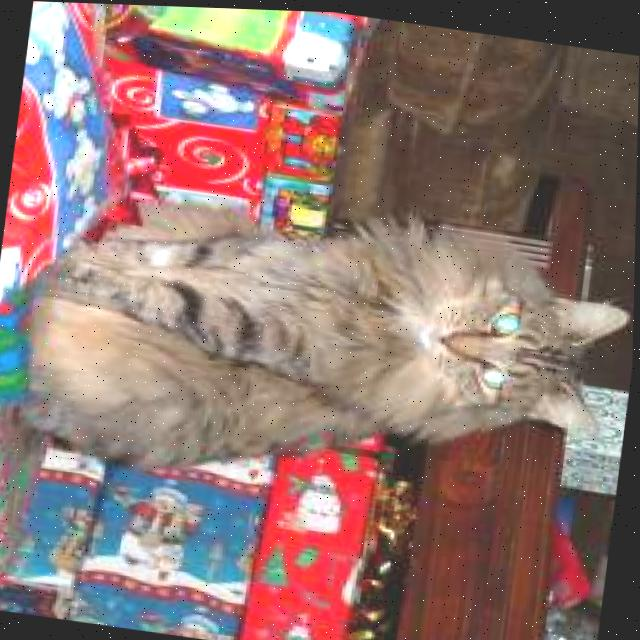Maine Coon: (7, 169, 637, 535)
